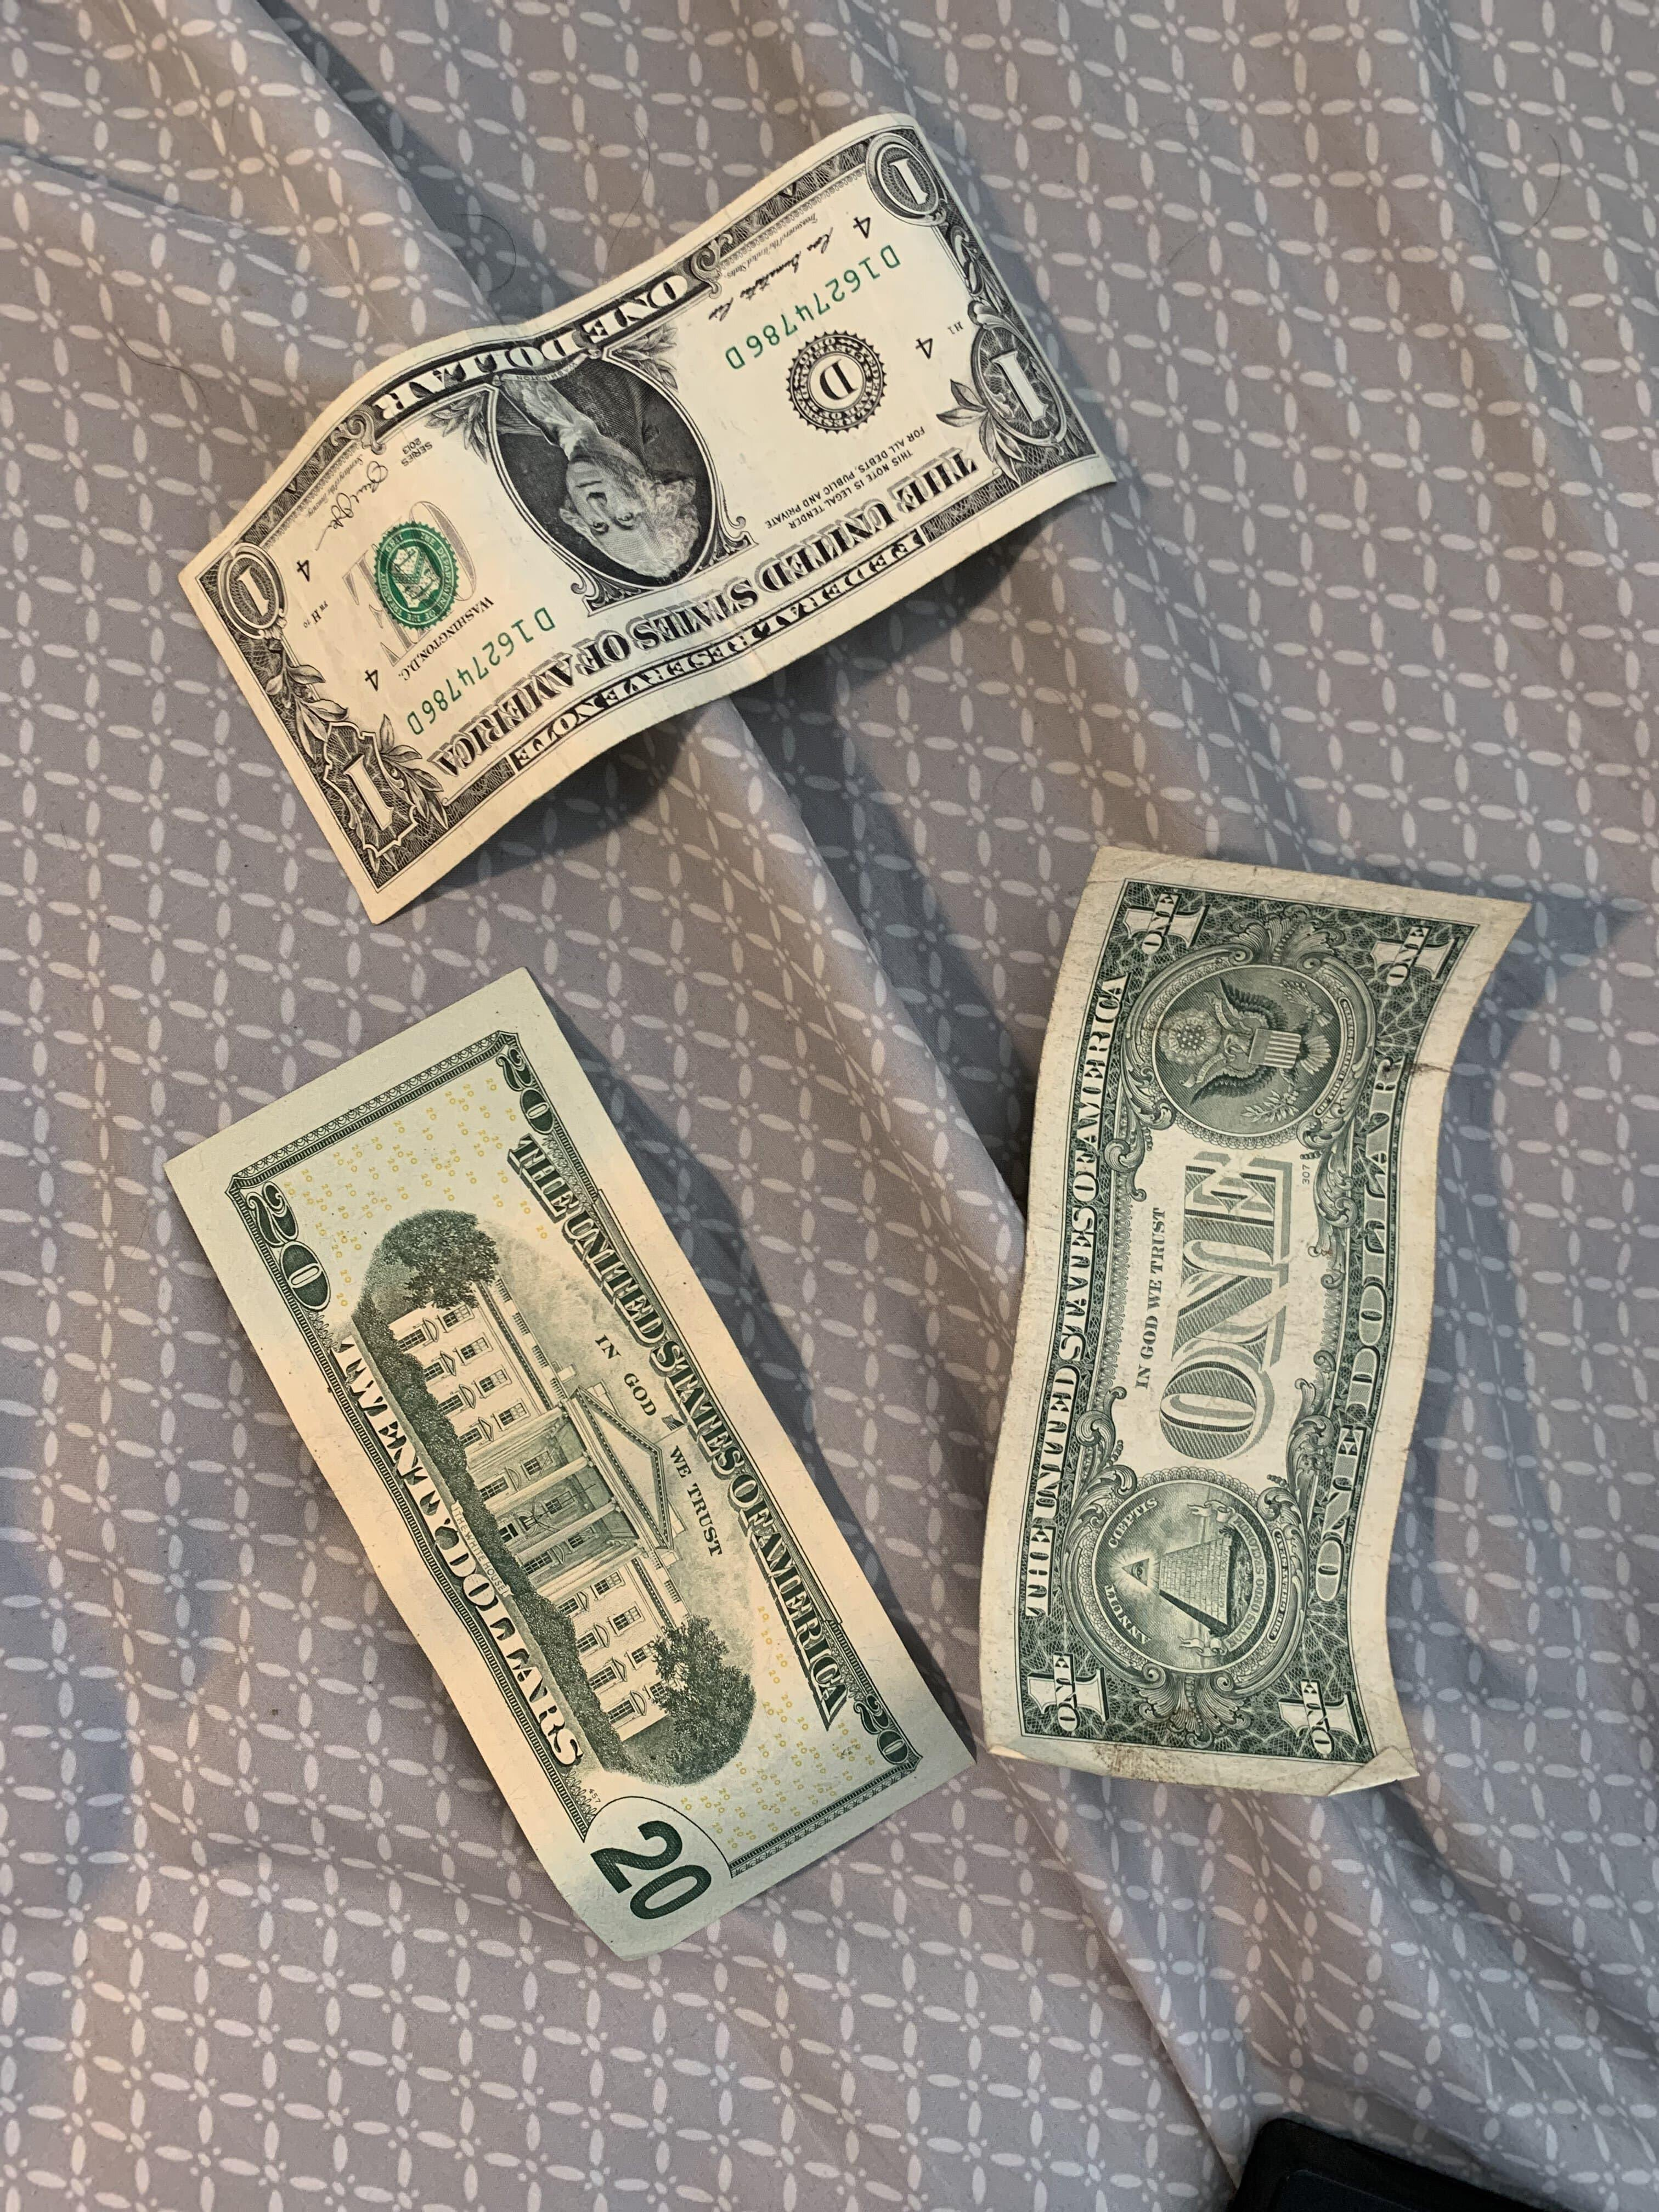OneBill: (139, 94, 1155, 935), (957, 810, 1547, 1829)
TwentyBill: (96, 953, 1011, 1980)
